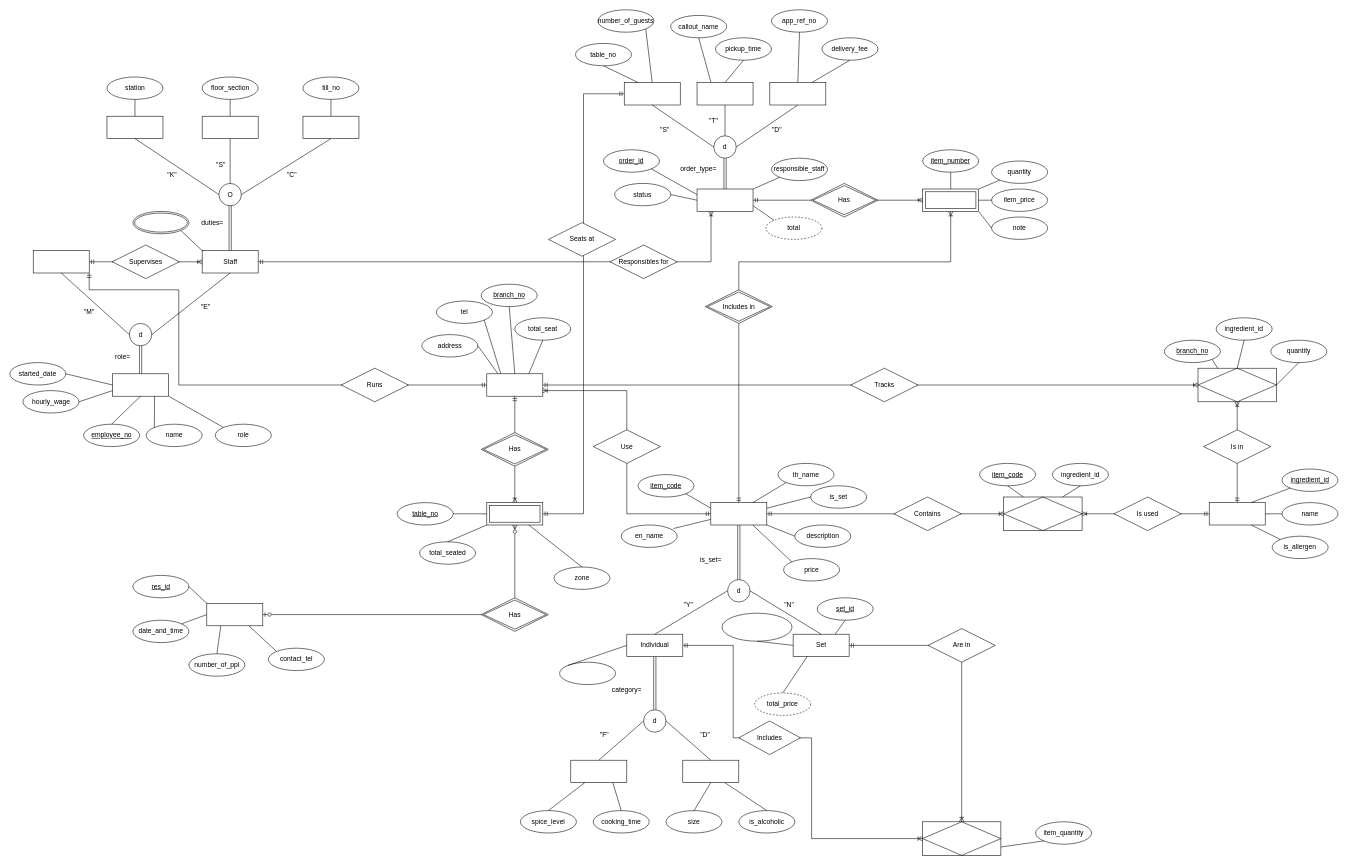
This 1348x865 diagram has some shape labels left out. The shapes that lost their labels are listed below. From the top down, each one's centre as x and y in pixels, then its label:
pixel 652 93: Sit-down
pixel 724 93: Takeaway
pixel 797 93: Delivery
pixel 134 127: Kitchen Staff
pixel 230 127: Service Staff
pixel 330 127: Cashier
pixel 724 199: Order
pixel 950 199: Order Items
pixel 160 222: duties
pixel 61 261: Manager
pixel 140 384: Employee
pixel 514 384: Restaurant Branch
pixel 1236 385: Ingredient Stock
pixel 514 513: Table
pixel 738 513: Menu Item
pixel 1042 513: Menu Item Ingredient
pixel 1237 513: Ingredient
pixel 234 614: Reservation
pixel 756 627: discount_percentage
pixel 587 673: category
pixel 598 771: Food dish
pixel 710 771: Drink
pixel 961 838: Set Item
